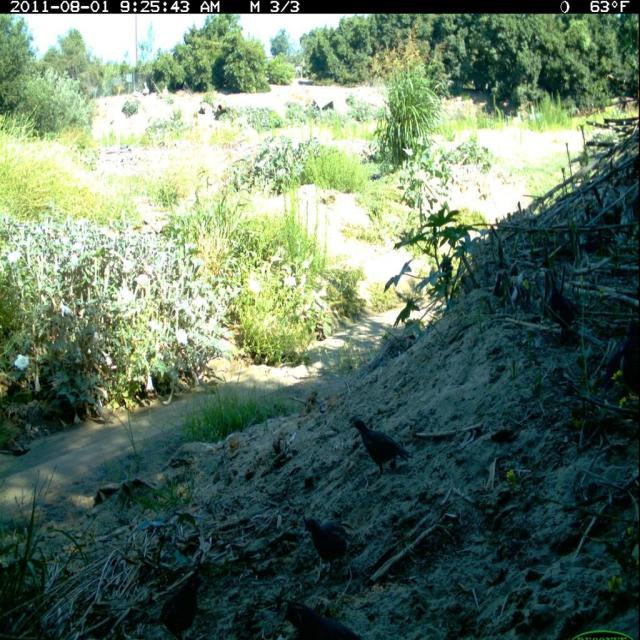bird: (349, 413, 412, 482), (274, 596, 367, 640), (158, 562, 207, 640), (596, 315, 640, 399), (302, 512, 351, 587), (543, 284, 580, 342)
